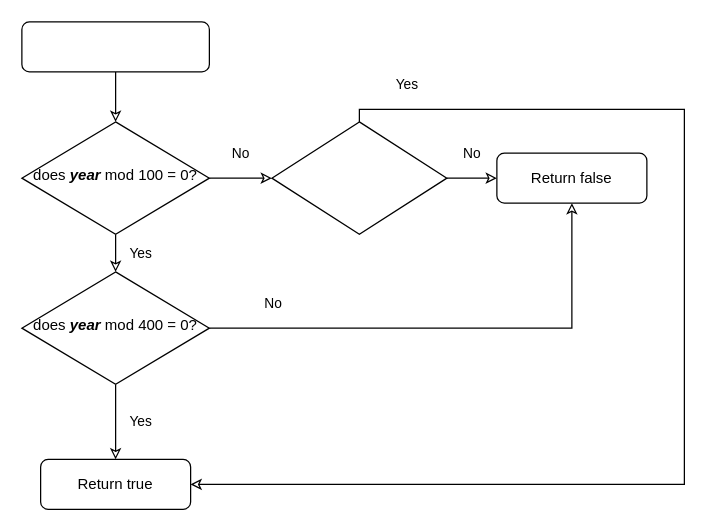
The diagram is 716 pixels wide and 531 high, and some of its shapes have lost their labels. Here are the shapes that lost their labels. From the top down, the box of each, then its label:
(21, 21, 209, 72): bool IsLeapYear(int year)
(271, 121, 447, 234): does year mod 4 = 0?
